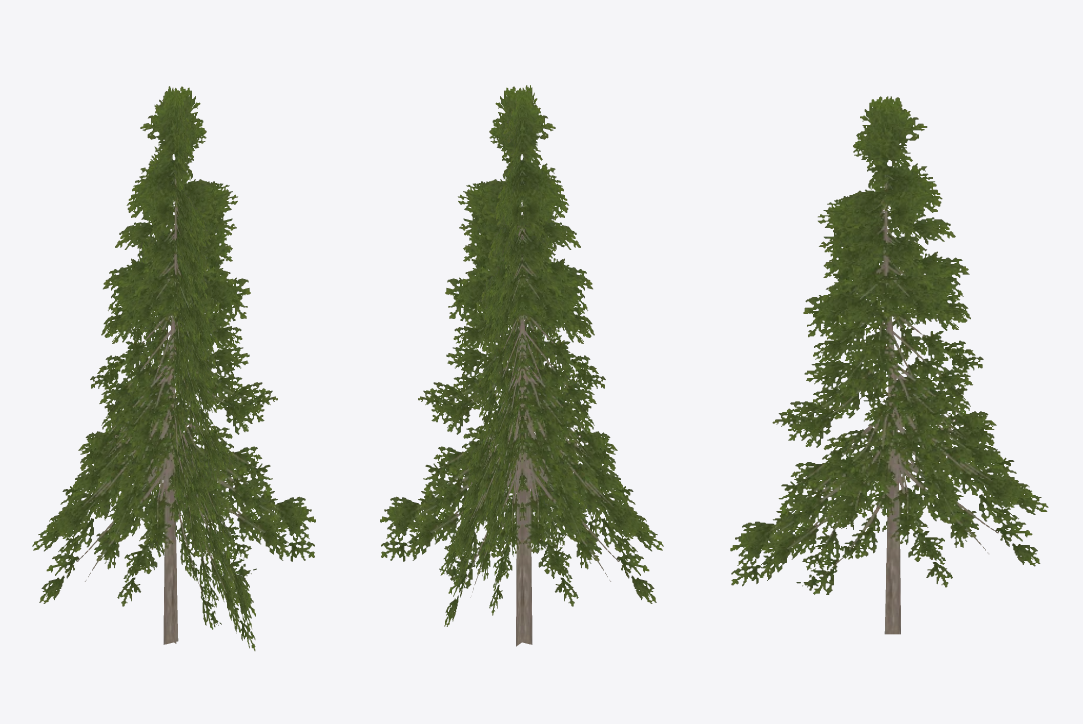
Rendered from pine_large_b_far.glb.
The picture shows the model from 3 angles, left to right: view 1: azimuth 30°, elevation 25°; view 2: azimuth 150°, elevation 25°; view 3: azimuth 270°, elevation 25°; orthographic projection. The views are drawn at different scales.
Visible parts, largest first — view 1: impostor; view 2: impostor; view 3: impostor.
Boxes of the visible parts, left/top/right/bottom form: impostor: left=32, top=86, right=315, bottom=650; impostor: left=380, top=85, right=663, bottom=646; impostor: left=730, top=96, right=1048, bottom=634.
Size of the model in its own units: 8.95 by 15 by 8.95.
Materials: 1 (1 with a texture image).
